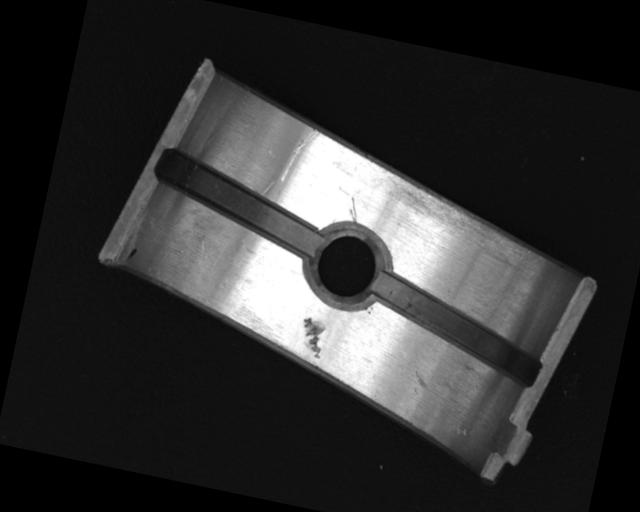blot: (124, 245, 138, 264)
bruise: (295, 314, 329, 360), (410, 370, 430, 396), (455, 425, 471, 438)
gap: (361, 266, 555, 387), (144, 146, 333, 262)
hole: (300, 218, 393, 313)
nick: (278, 123, 319, 189), (346, 195, 361, 223)
scratch: (375, 159, 560, 280)
